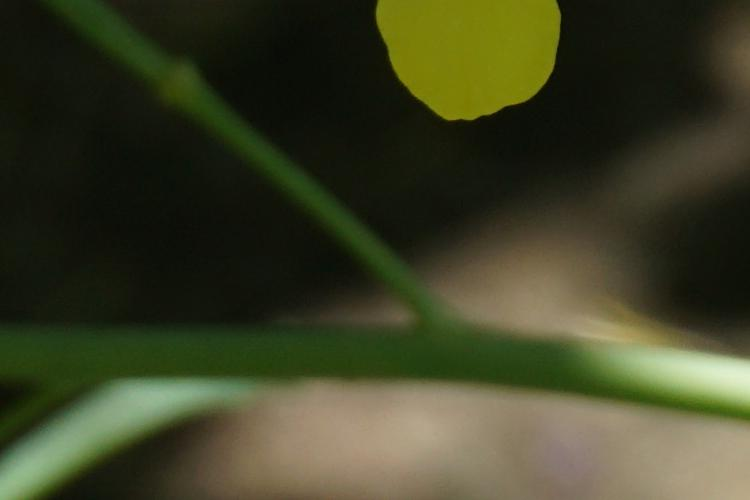yellow: (381, 6, 568, 118)
